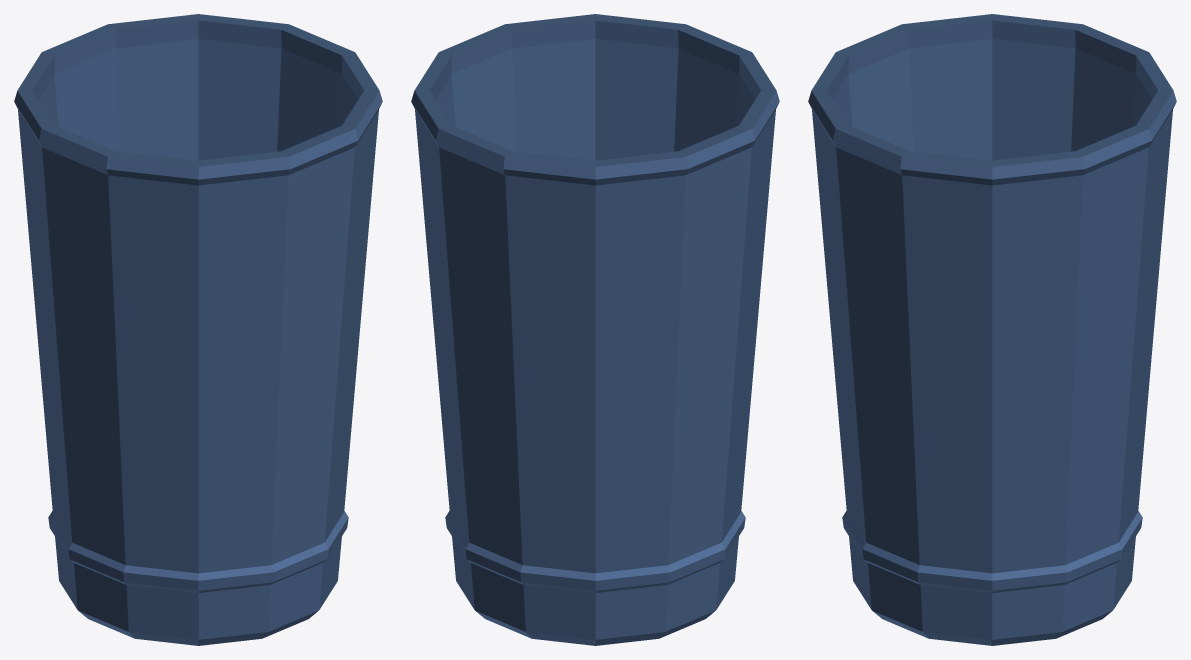
File: vaso.glb
The picture shows the model from 3 angles, left to right: view 1: azimuth 30°, elevation 25°; view 2: azimuth 150°, elevation 25°; view 3: azimuth 270°, elevation 25°; orthographic projection.
Parts seen in each view (by area): view 1: Vaso_cuerpo; view 2: Vaso_cuerpo; view 3: Vaso_cuerpo.
Boxes of the visible parts, x1,y1,x2,y2 form: Vaso_cuerpo: (14,14,382,645); Vaso_cuerpo: (411,14,779,645); Vaso_cuerpo: (808,14,1176,645).
Bounding box in the file's own units: 0.085 × 0.1276 × 0.085.
